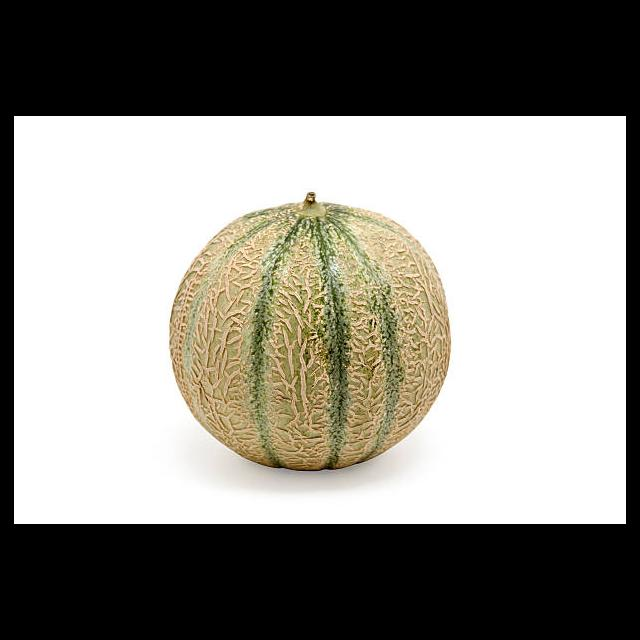Hami Melon: (170, 190, 450, 471)
